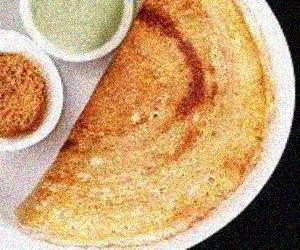dosa: (15, 1, 274, 250)
